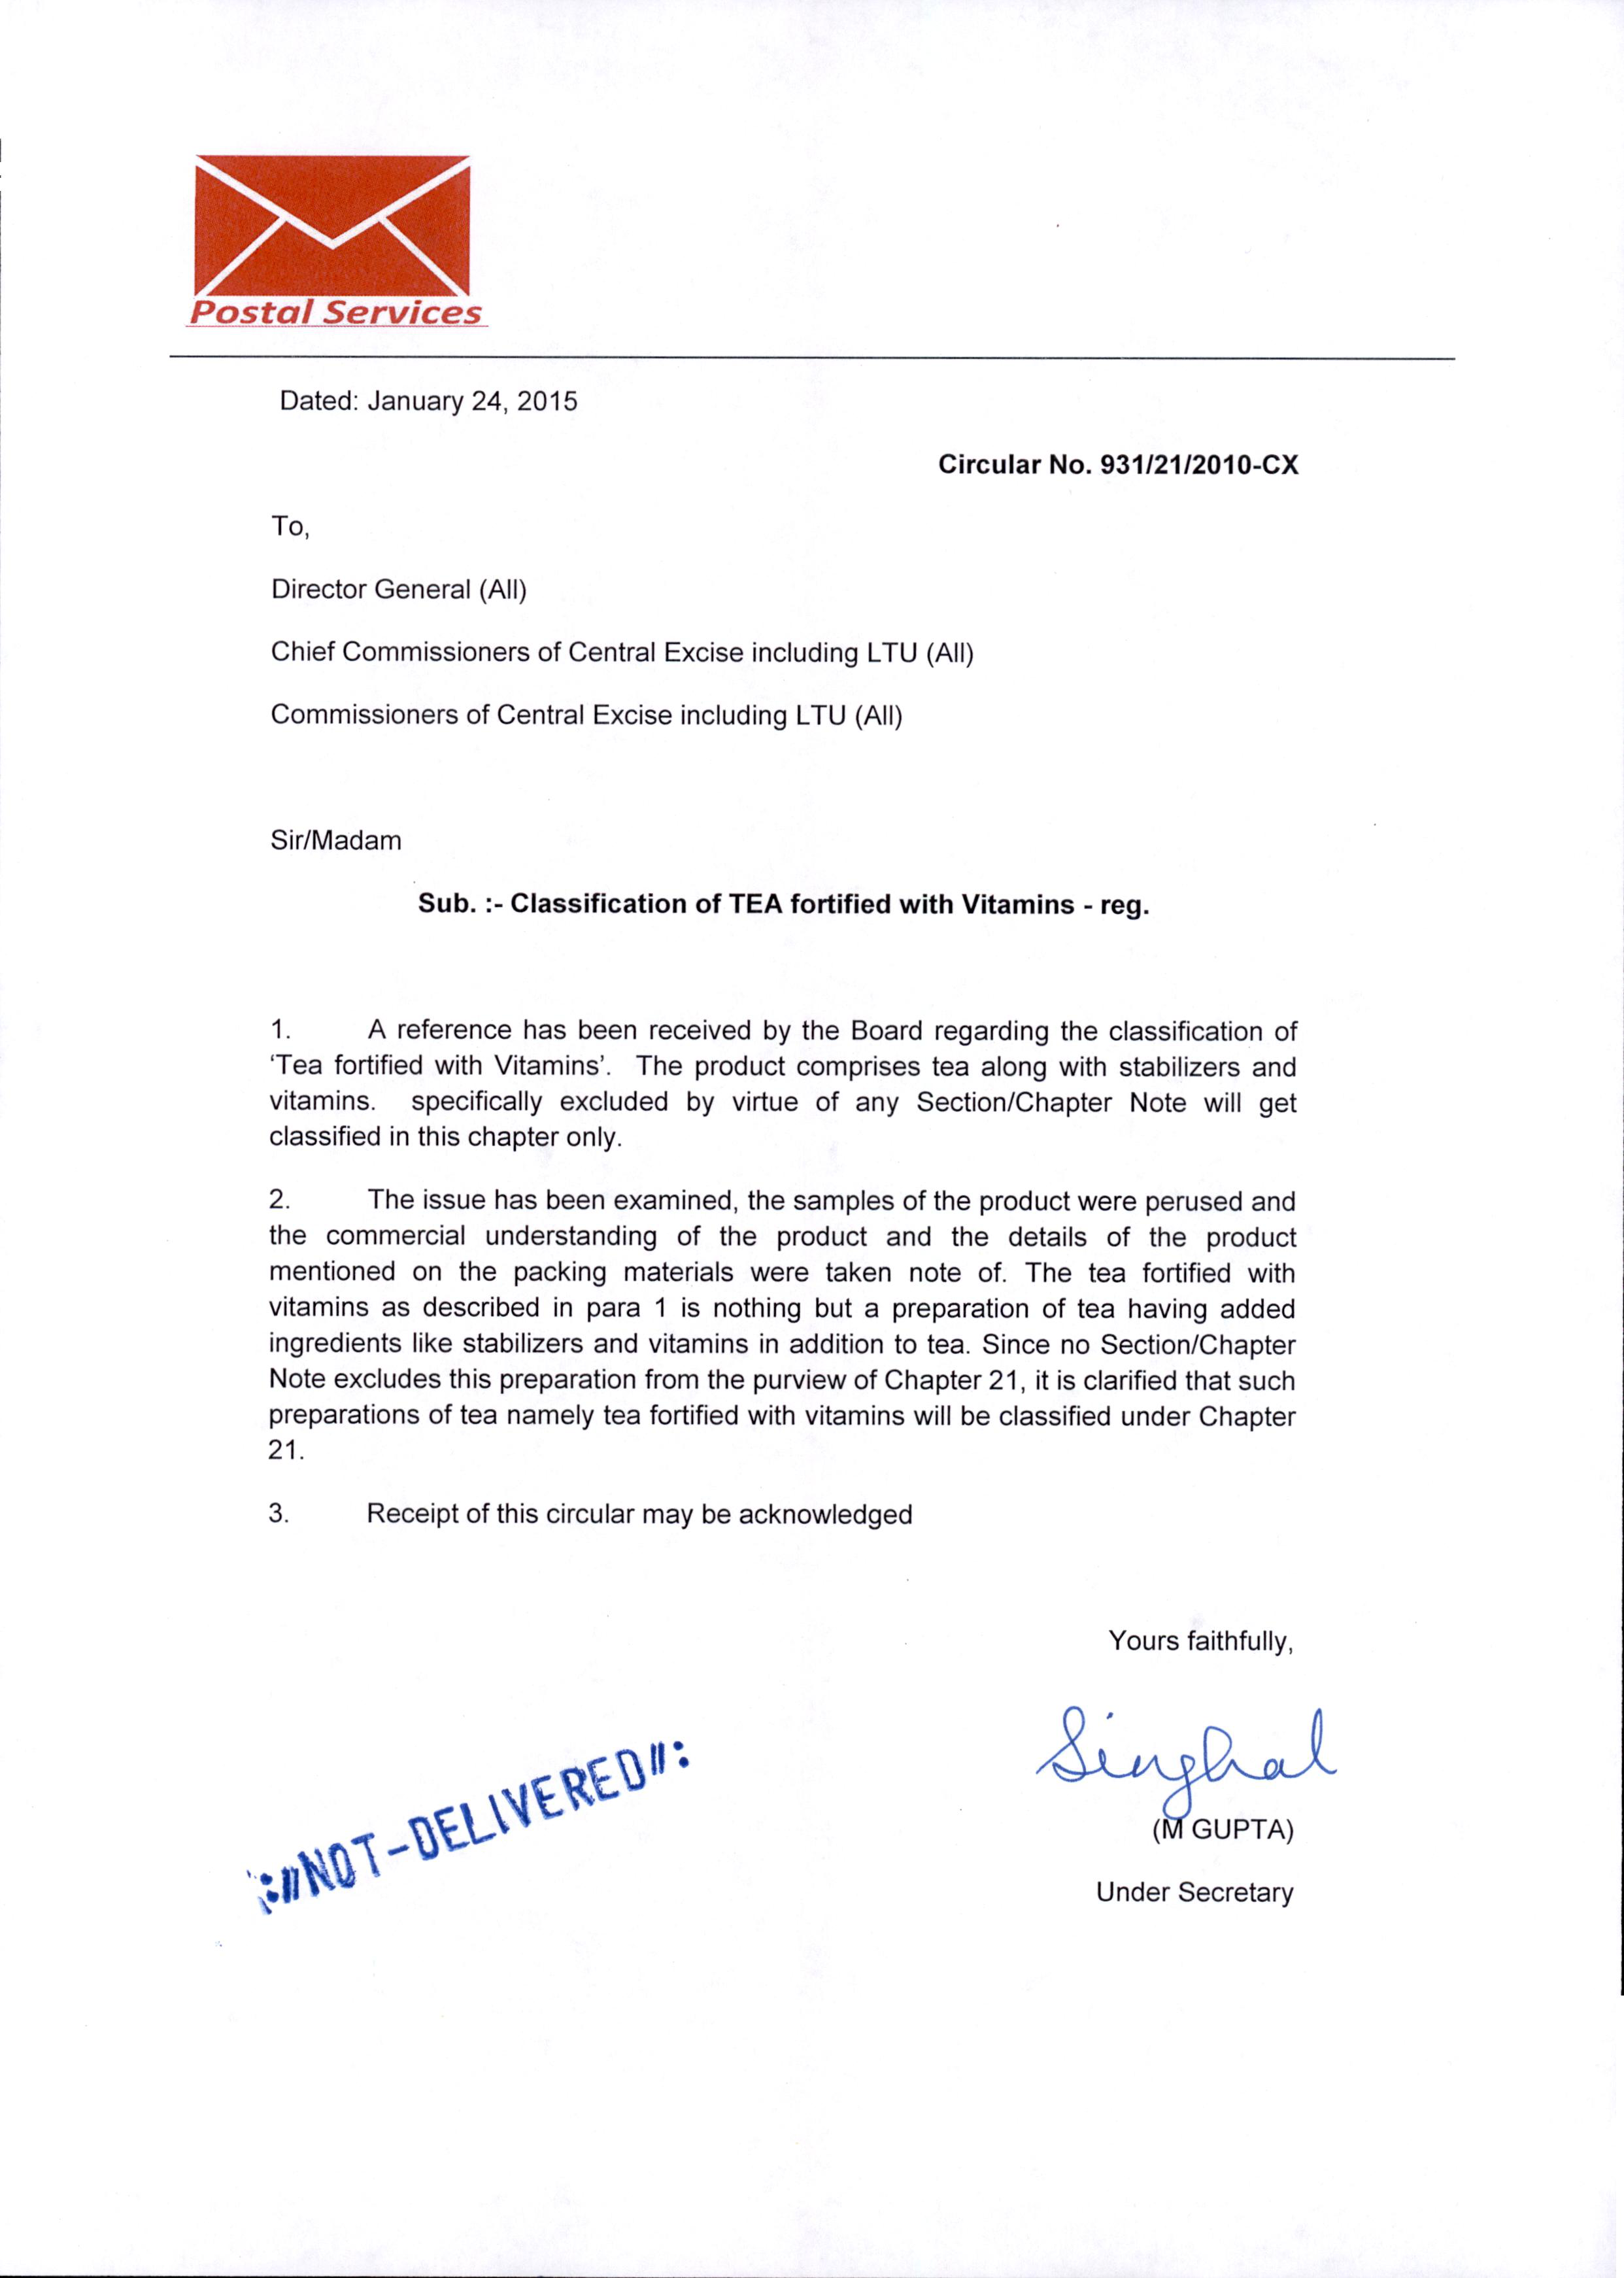Signature: (1026, 1698, 1352, 1817)
